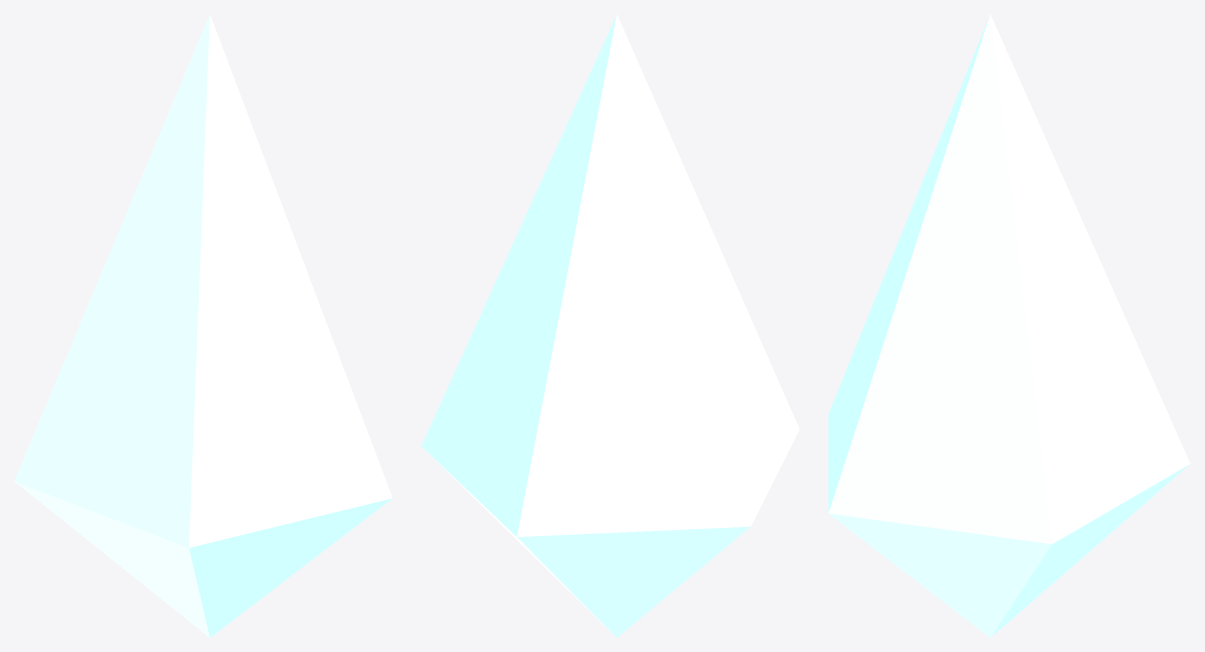
File: crystal.glb
3 renders of one model, left to right at view 1: azimuth 30°, elevation 25°; view 2: azimuth 150°, elevation 25°; view 3: azimuth 270°, elevation 25°, orthographic.
Parts seen in each view (by area): view 1: CrystalCore, CrystalLower; view 2: CrystalCore, CrystalLower; view 3: CrystalCore, CrystalLower.
Part boxes in pixels (x1,y1,x2,y2): CrystalCore: (14, 14, 392, 547); CrystalLower: (15, 482, 392, 637); CrystalCore: (421, 14, 799, 536); CrystalLower: (423, 448, 750, 637); CrystalCore: (828, 14, 1190, 544); CrystalLower: (829, 464, 1189, 637).
Size of the model in its own units: 0.4755 by 0.86 by 0.4523.
